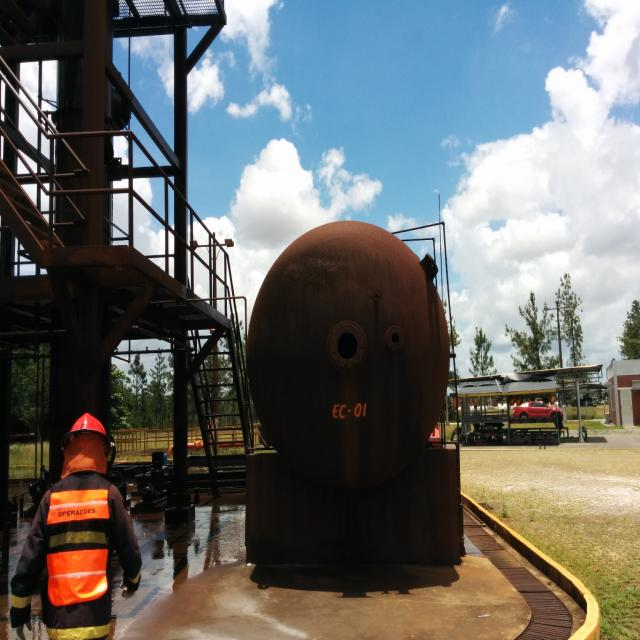no_fire: (8, 45, 614, 596)
